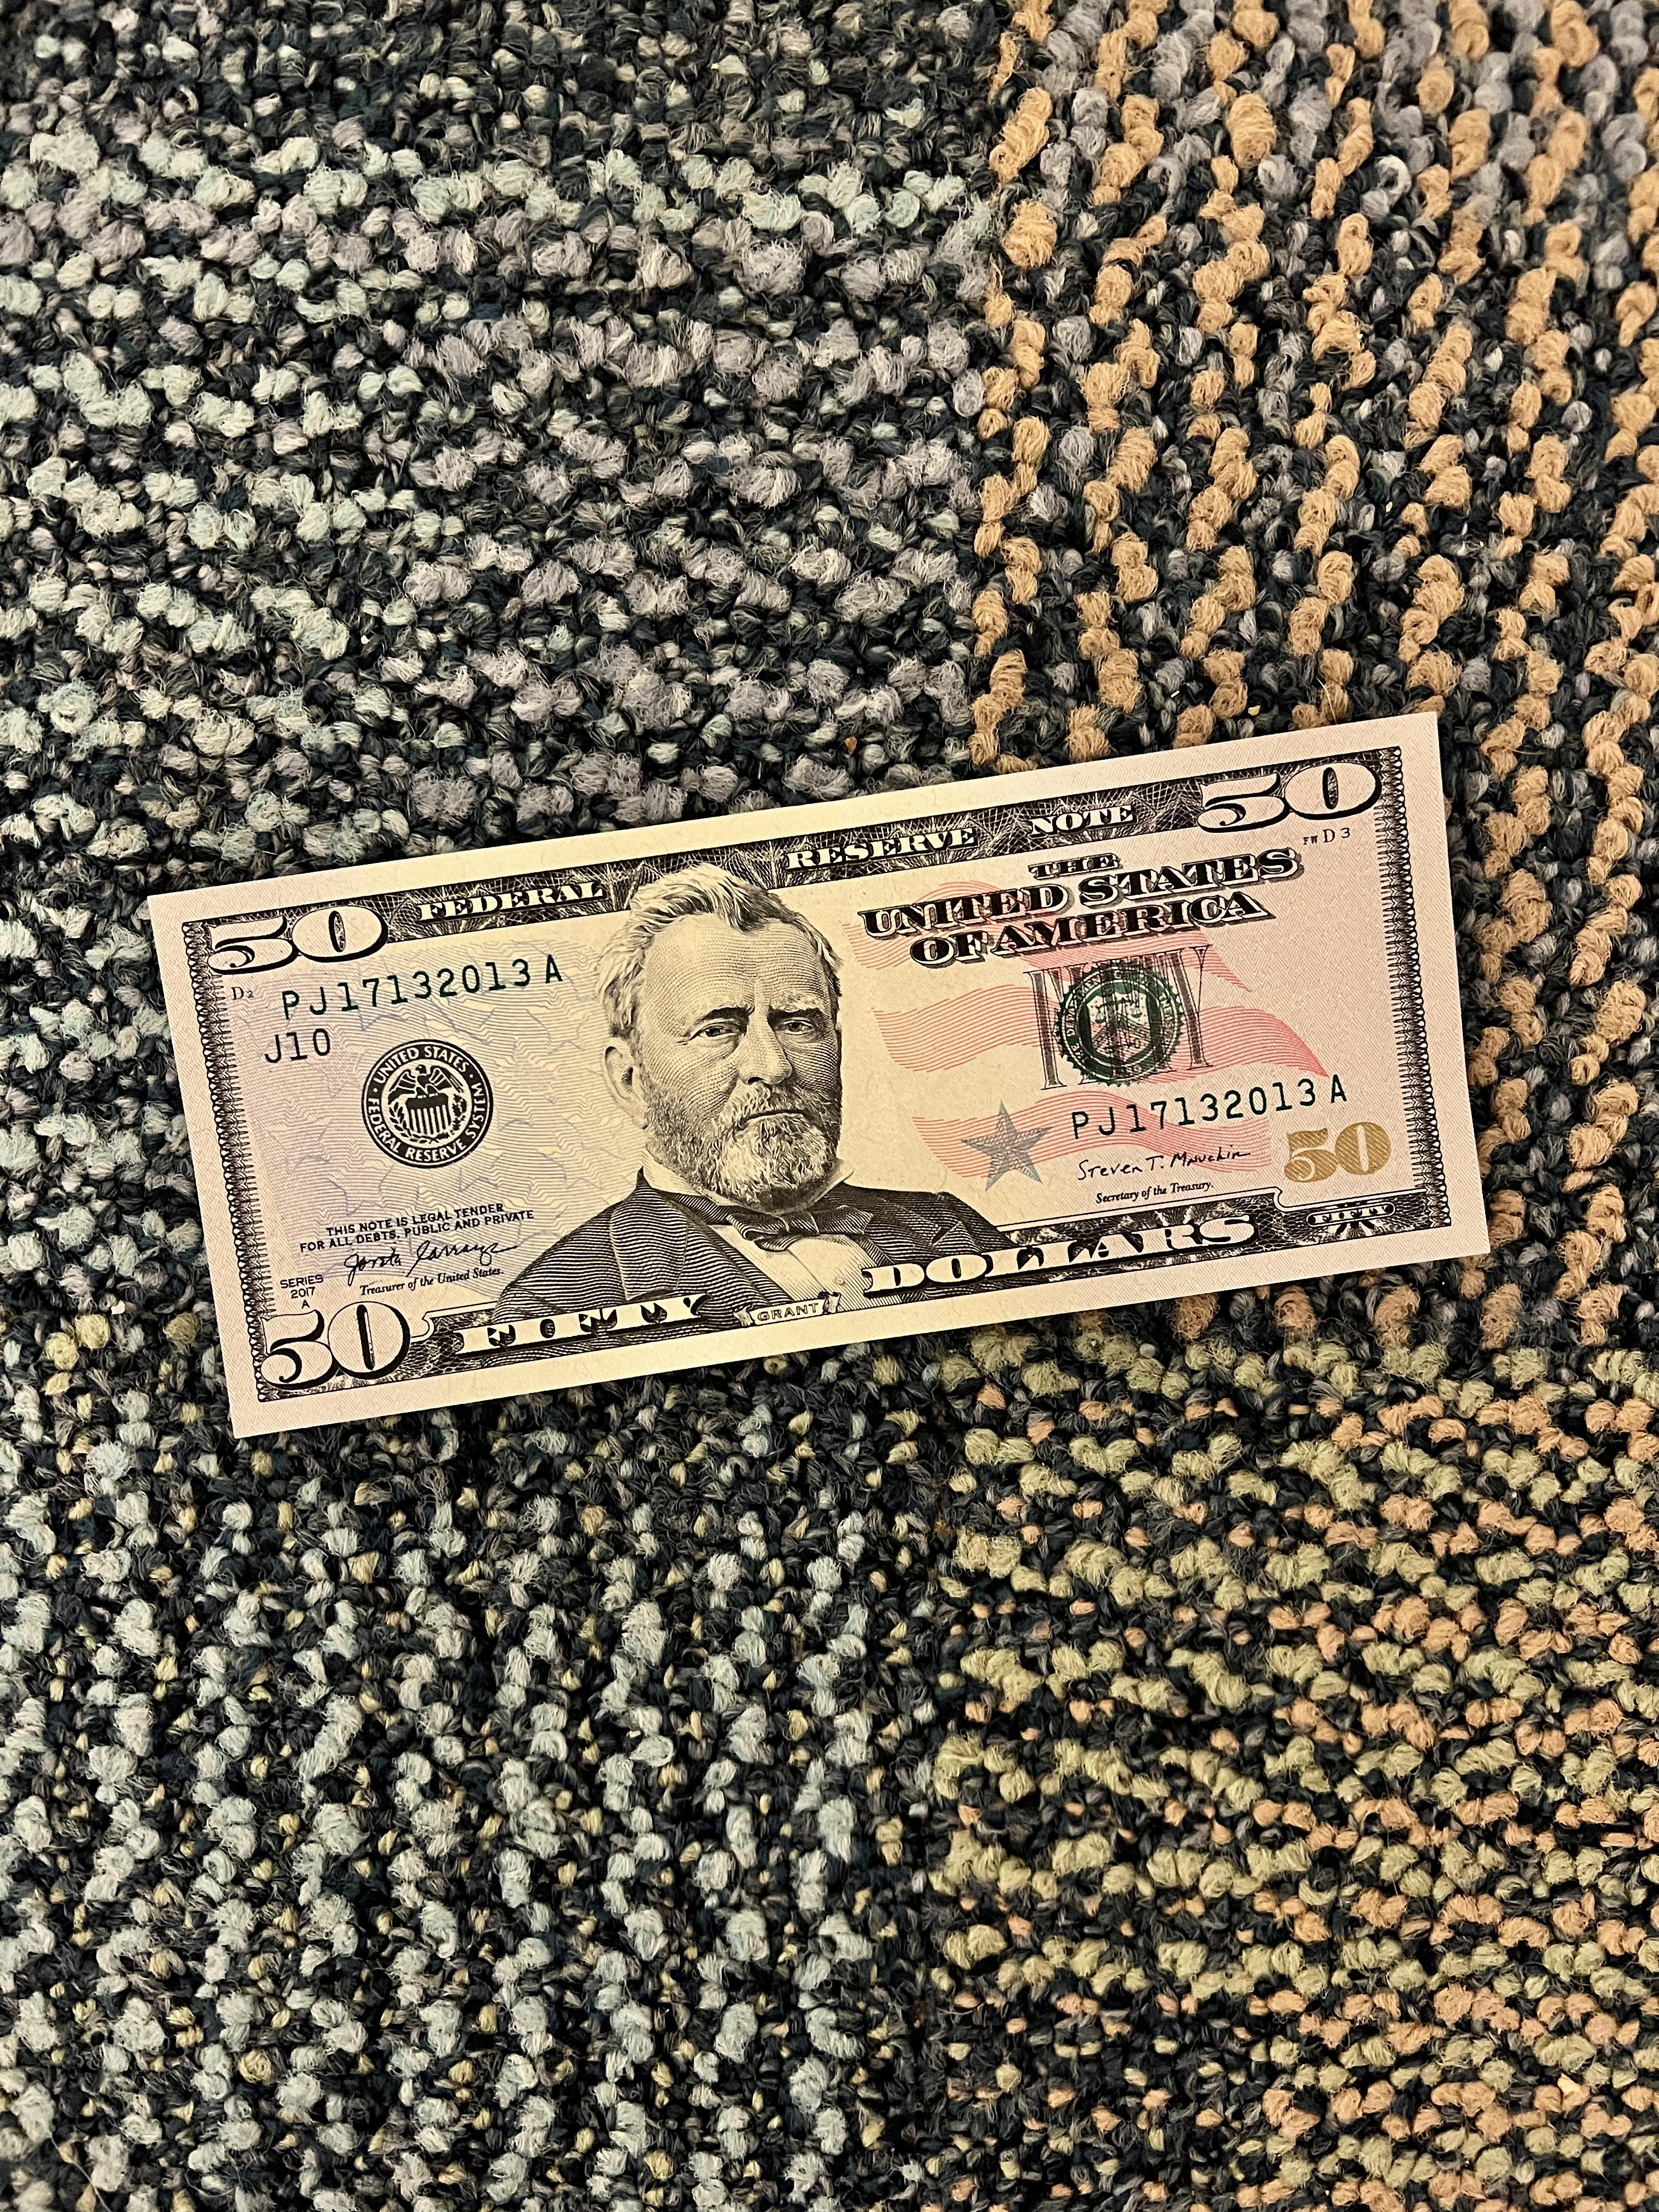FiftyBill: (143, 700, 1490, 1474)
